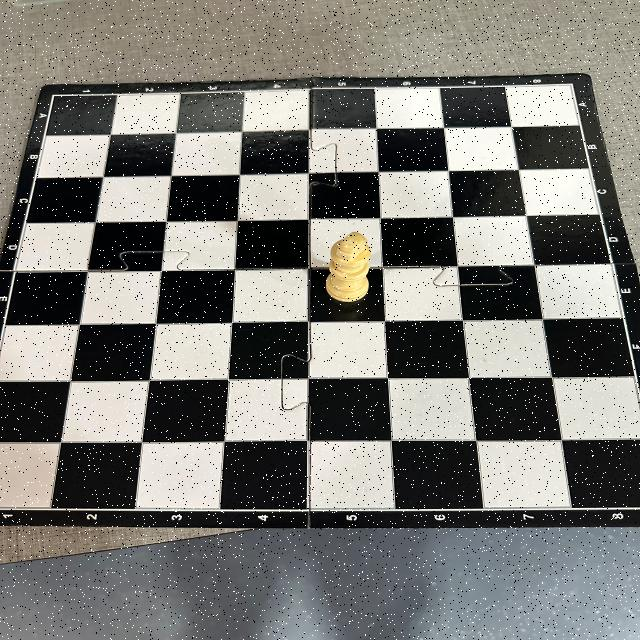White-King: (326, 231, 370, 302)
